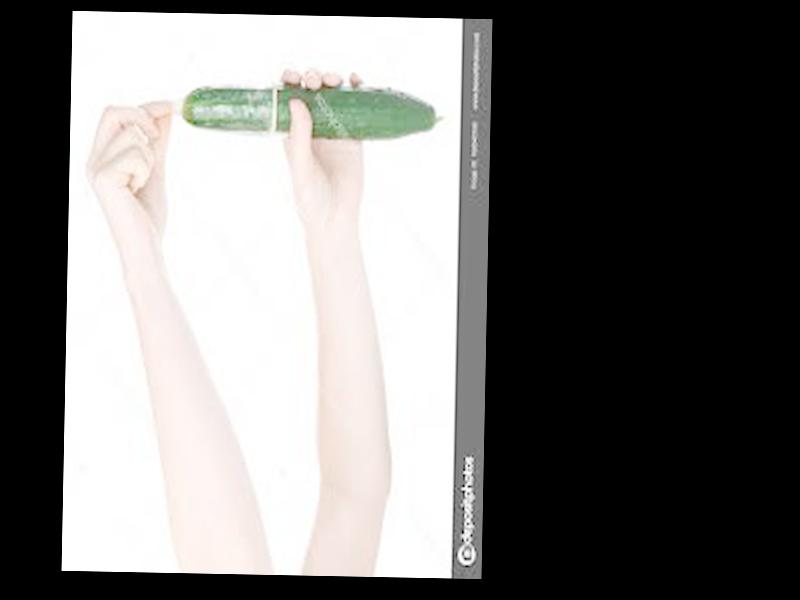Cucumber: (180, 85, 443, 136)
